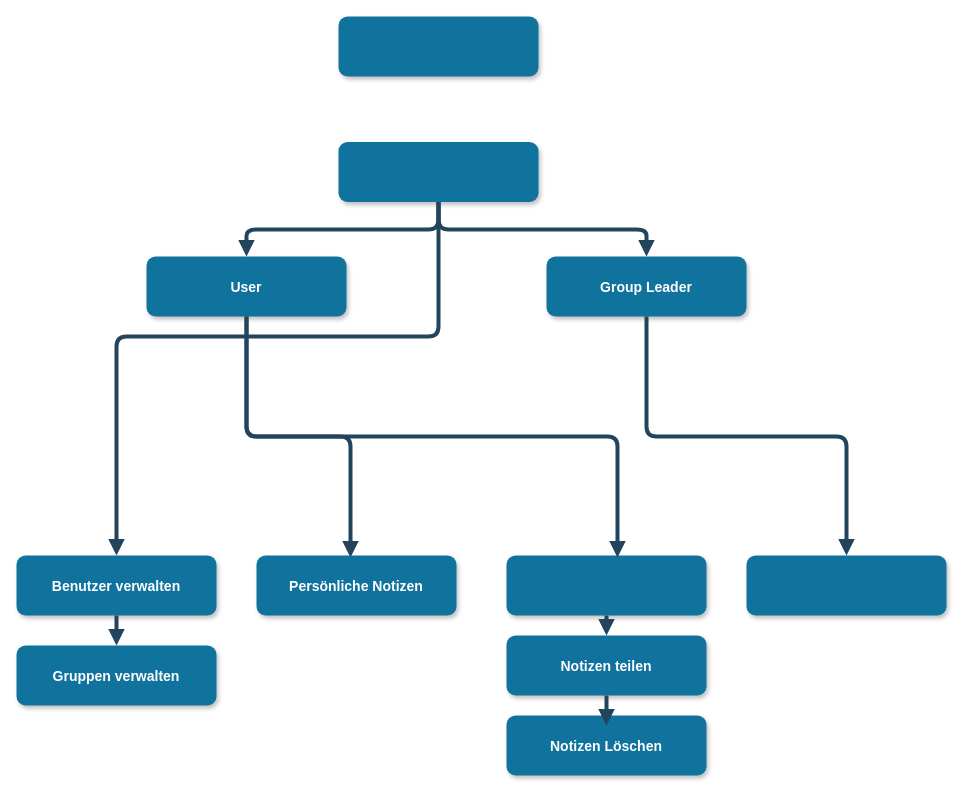
This 963x792 diagram has some shape labels left out. The centre of each missing label's shape, as x and y in pixels:
Admin: (x=439, y=173)
Notizen erstellen: (x=607, y=586)
Notizen in Gruppen anzeigen: (x=847, y=586)
Use Cases: (x=439, y=47)
